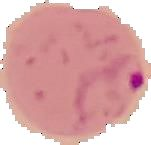parasitized: (70, 52, 147, 139)
